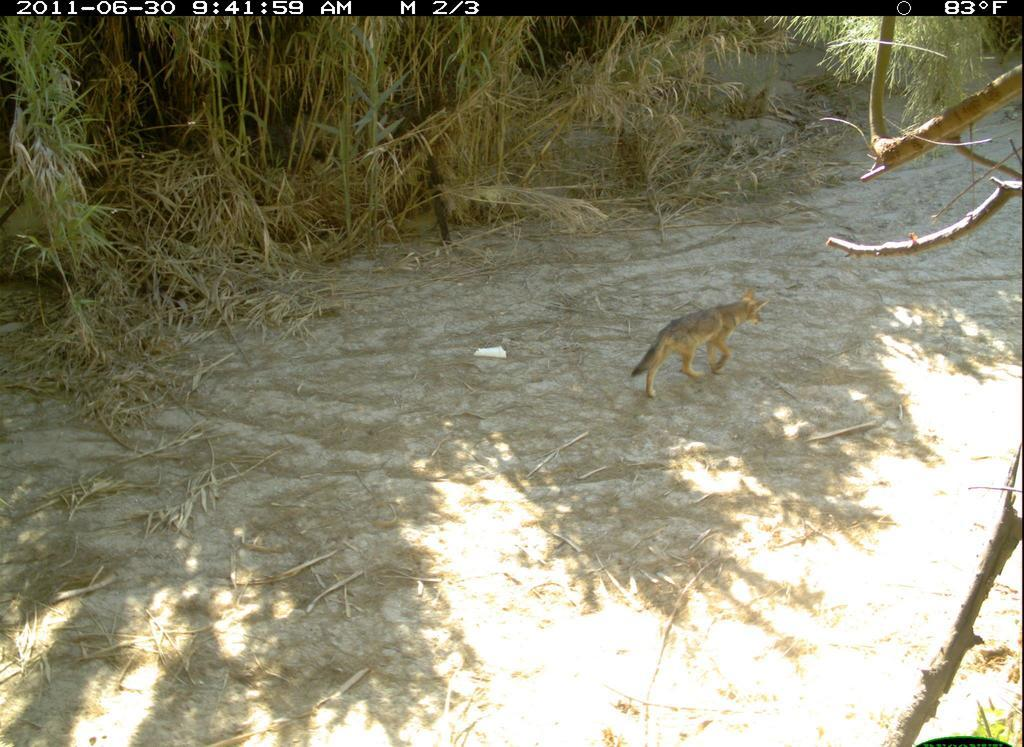coyote: (633, 288, 770, 398)
